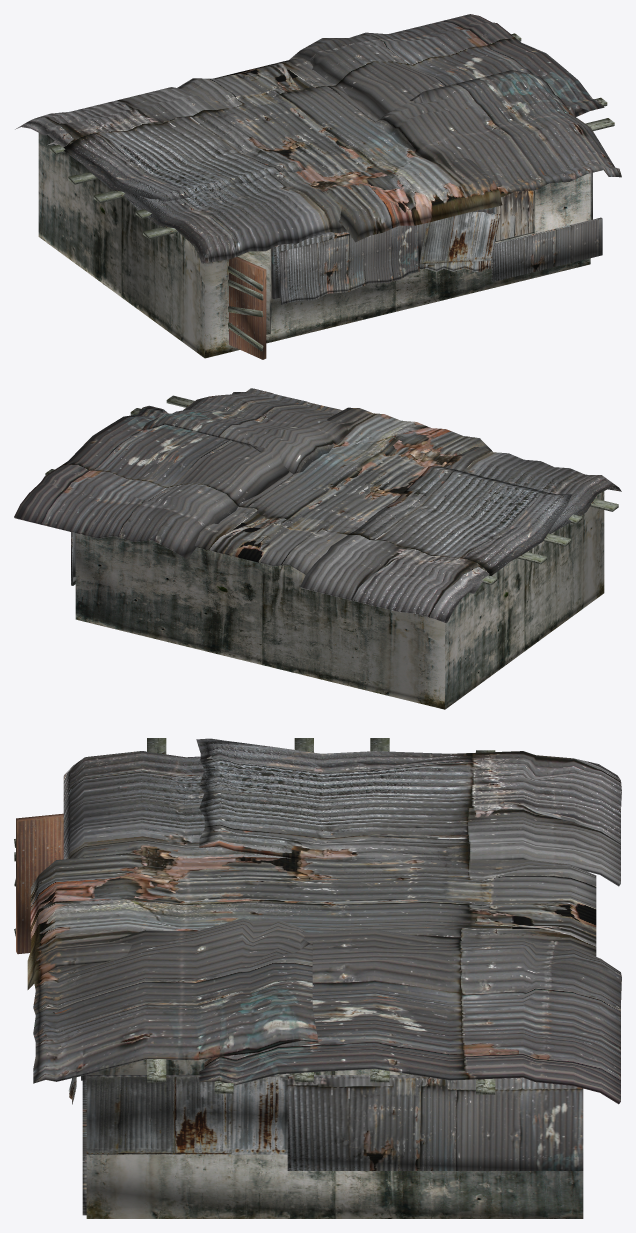
File: shanty14.fbx
The picture shows the model from 3 angles, top to bottom: view 1: azimuth 30°, elevation 25°; view 2: azimuth 150°, elevation 25°; view 3: azimuth 270°, elevation 25°; orthographic projection. The views are drawn at different scales.
Parts seen in each view (by area): view 1: U3DMesh; view 2: U3DMesh; view 3: U3DMesh.
Part boxes in pixels (x1,y1,x2,y2): U3DMesh: (15,14,621,359); U3DMesh: (14,388,621,709); U3DMesh: (14,738,621,1218).
Bounding box in the file's own units: 508 × 143 × 371.
